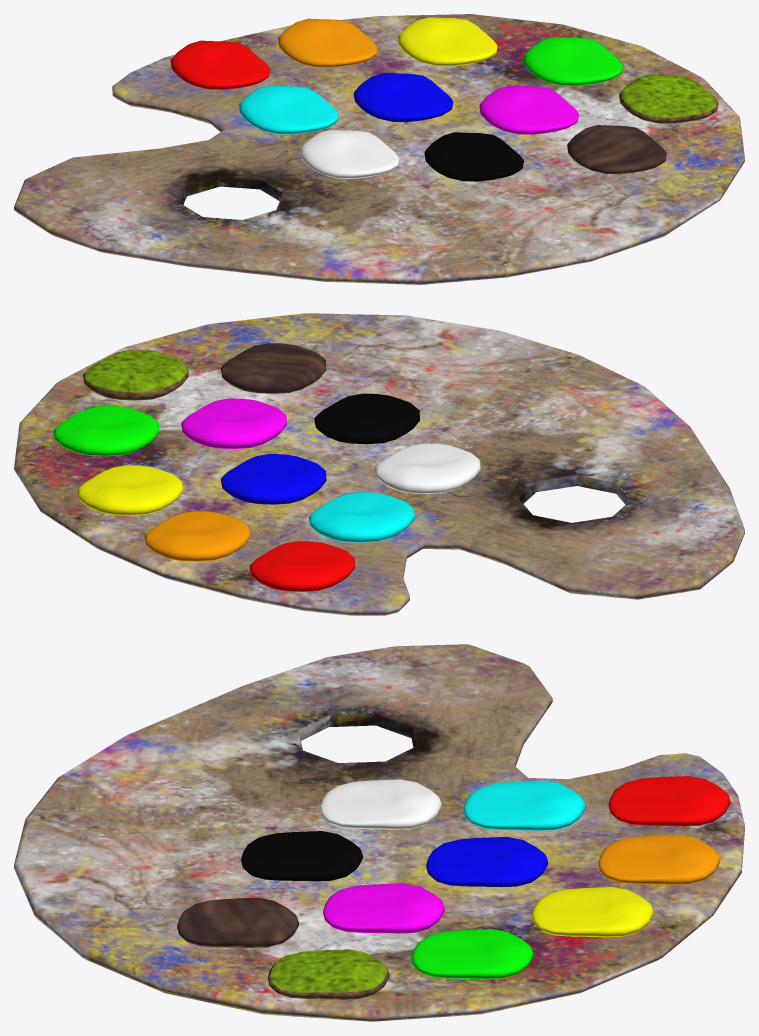
Rendered from painter_Palette2.fbx.
3 renders of one model, top to bottom at view 1: azimuth 30°, elevation 25°; view 2: azimuth 150°, elevation 25°; view 3: azimuth 270°, elevation 25°, orthographic. The views are drawn at different scales.
Visible parts, largest first — view 1: Group17286; view 2: Group17286; view 3: Group17286.
Part boxes in pixels (x1,y1,x2,y2): Group17286: (14,14,744,284); Group17286: (14,313,744,615); Group17286: (14,644,744,1021).
Bounding box in the file's own units: 62.57 × 2.35 × 52.27.
Materials: 2 (2 with a texture image).
